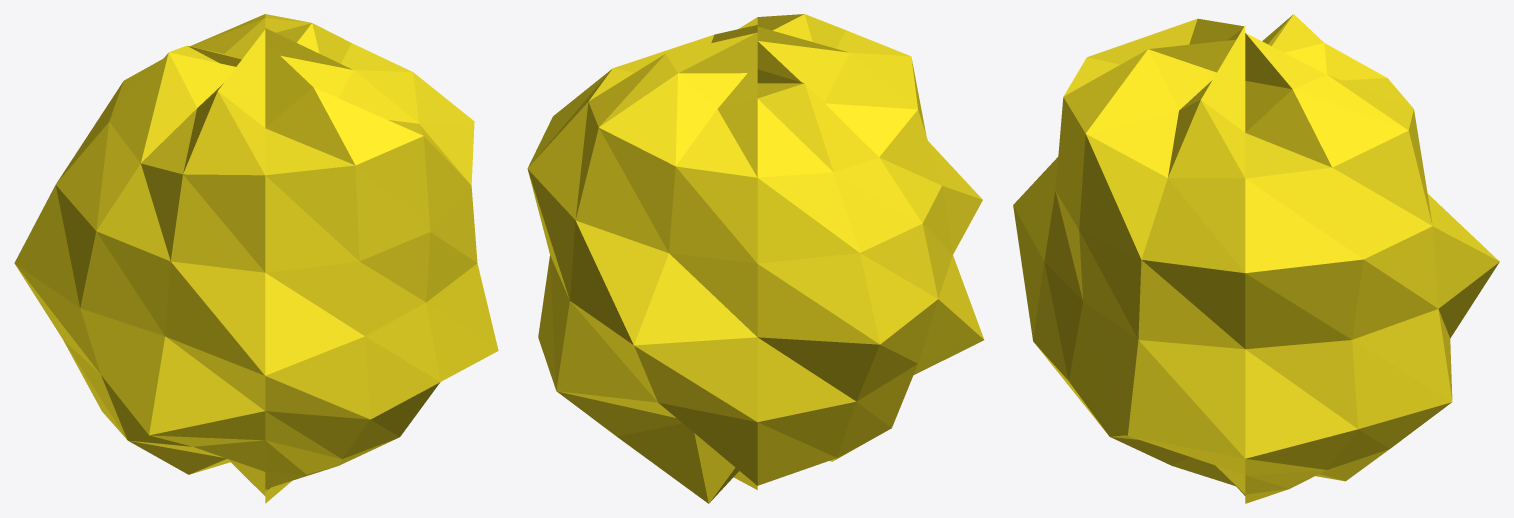
File: asteroid_low_3.obj
3 views of the same model, side by side, from view 1: azimuth 30°, elevation 25°; view 2: azimuth 150°, elevation 25°; view 3: azimuth 270°, elevation 25° (orthographic). The views are drawn at different scales.
Parts seen in each view (by area): view 1: asteroid_low; view 2: asteroid_low; view 3: asteroid_low.
Part boxes in pixels (<box>): asteroid_low: <box>14,14,498,503</box>; asteroid_low: <box>527,14,984,503</box>; asteroid_low: <box>1013,14,1499,503</box>.
Size of the model in its own units: 2.05 by 2.32 by 2.14.
